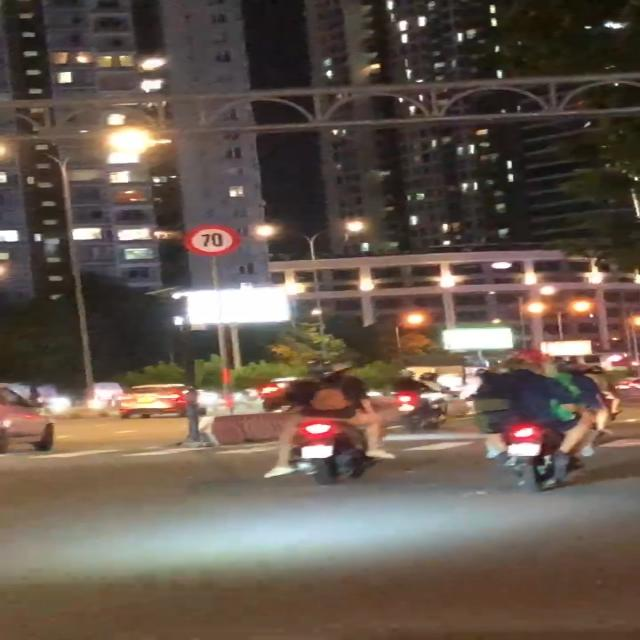Bien bao toc do toi da cho phep: (182, 222, 244, 262)
